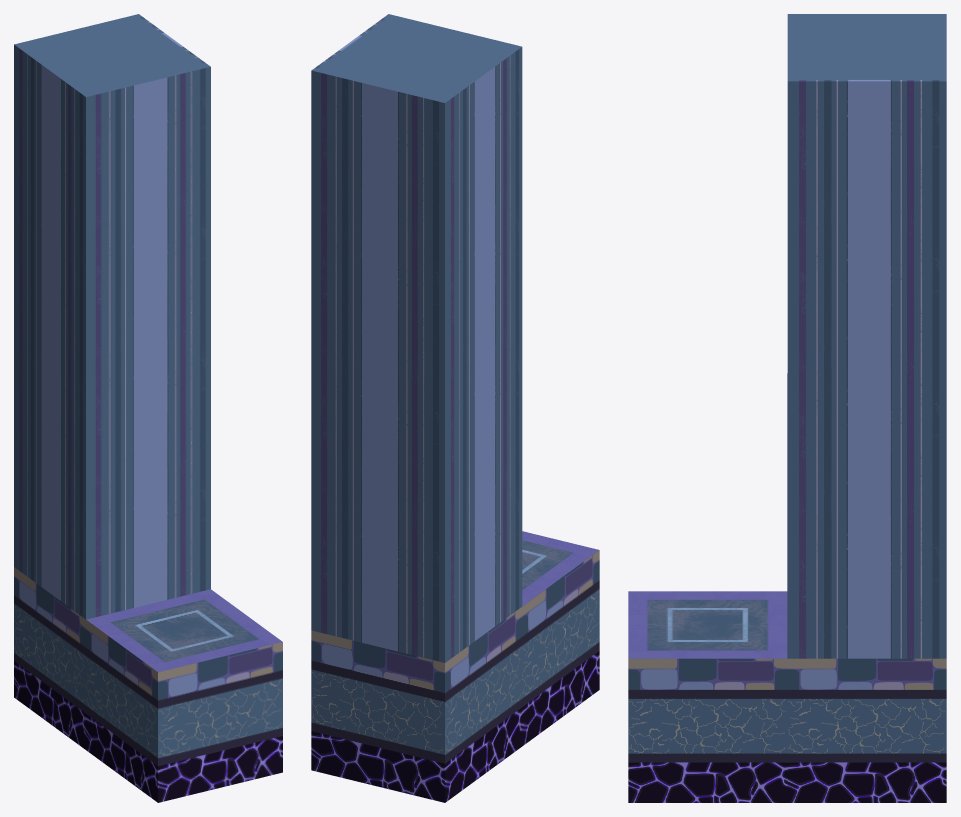
The model's file is pasillo_suelo_y_pared.fbx.
3 views of the same model, side by side, from view 1: azimuth 30°, elevation 25°; view 2: azimuth 150°, elevation 25°; view 3: azimuth 270°, elevation 25° (orthographic). The views are drawn at different scales.
Visible parts, largest first — view 1: Pasillo; view 2: Pasillo; view 3: Pasillo.
Part boxes in pixels (x1,y1,x2,y2): Pasillo: [14, 14, 282, 802]; Pasillo: [311, 14, 599, 802]; Pasillo: [628, 14, 946, 802].
Bounding box in the file's own units: 100 × 500 × 200.
